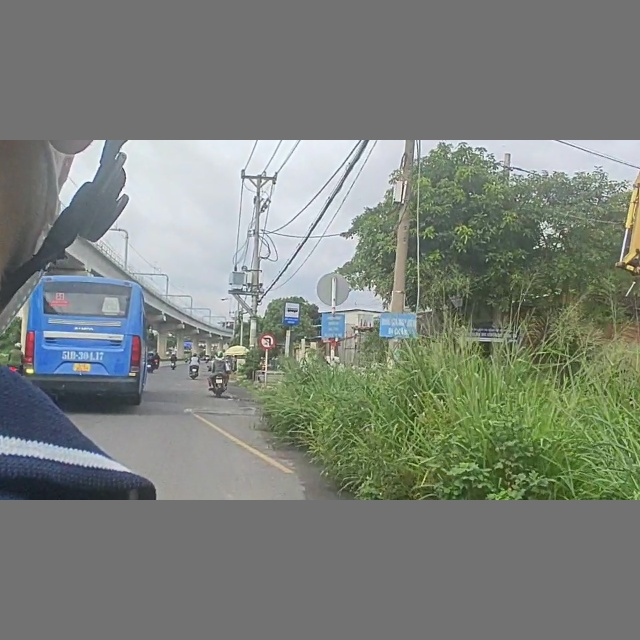I.434a: (283, 301, 301, 325)
P.123a: (259, 333, 276, 349)
